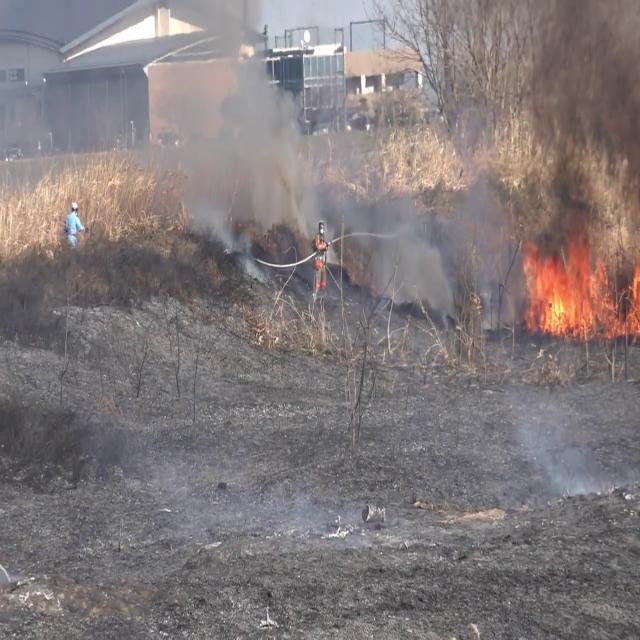Fire: (518, 233, 640, 343)
Smoke: (144, 0, 306, 256), (350, 128, 514, 325)
